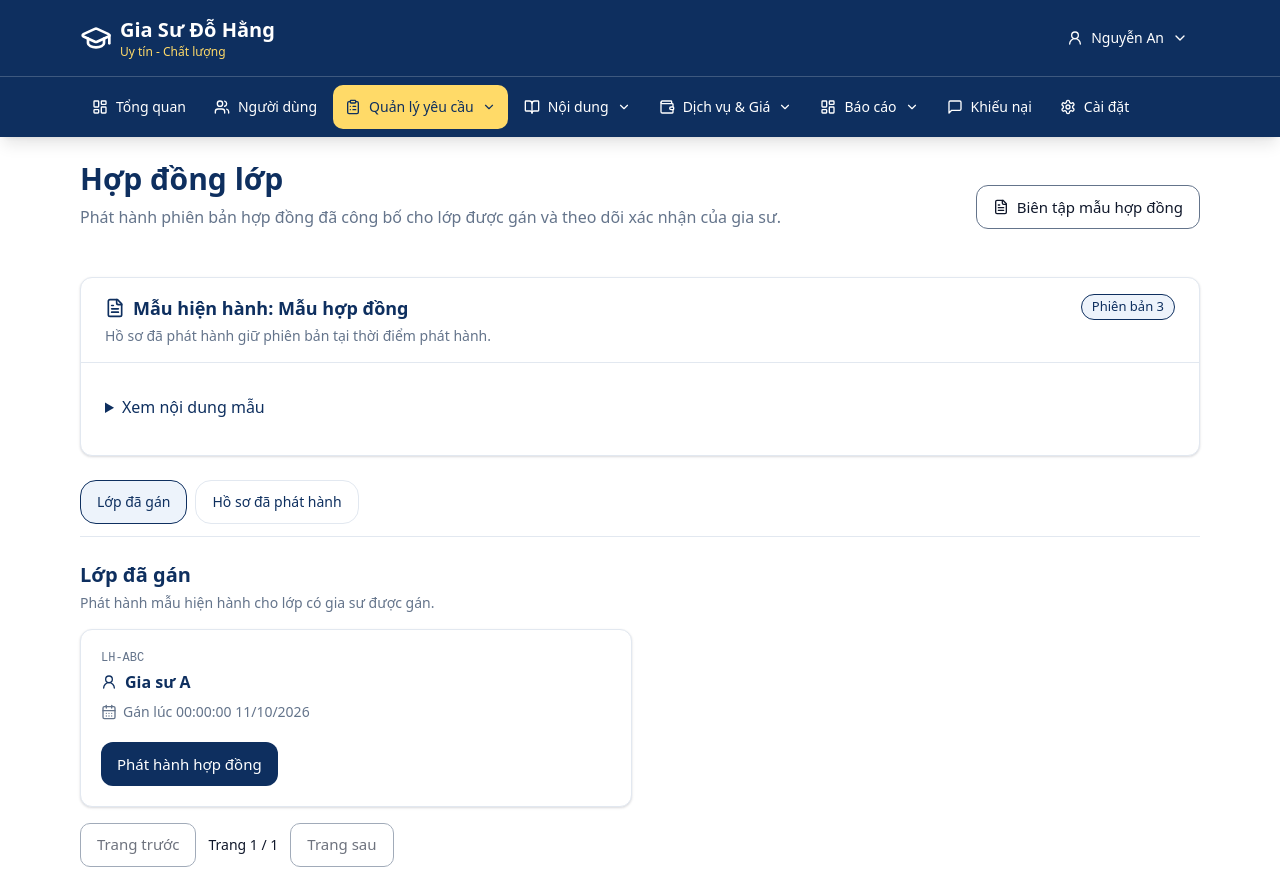
Test case: moderator terms and contracts › issues the current contract version only to an active assignment
Click the button "Phát hành hợp đồng" at (189, 764), box [101,742,278,786]
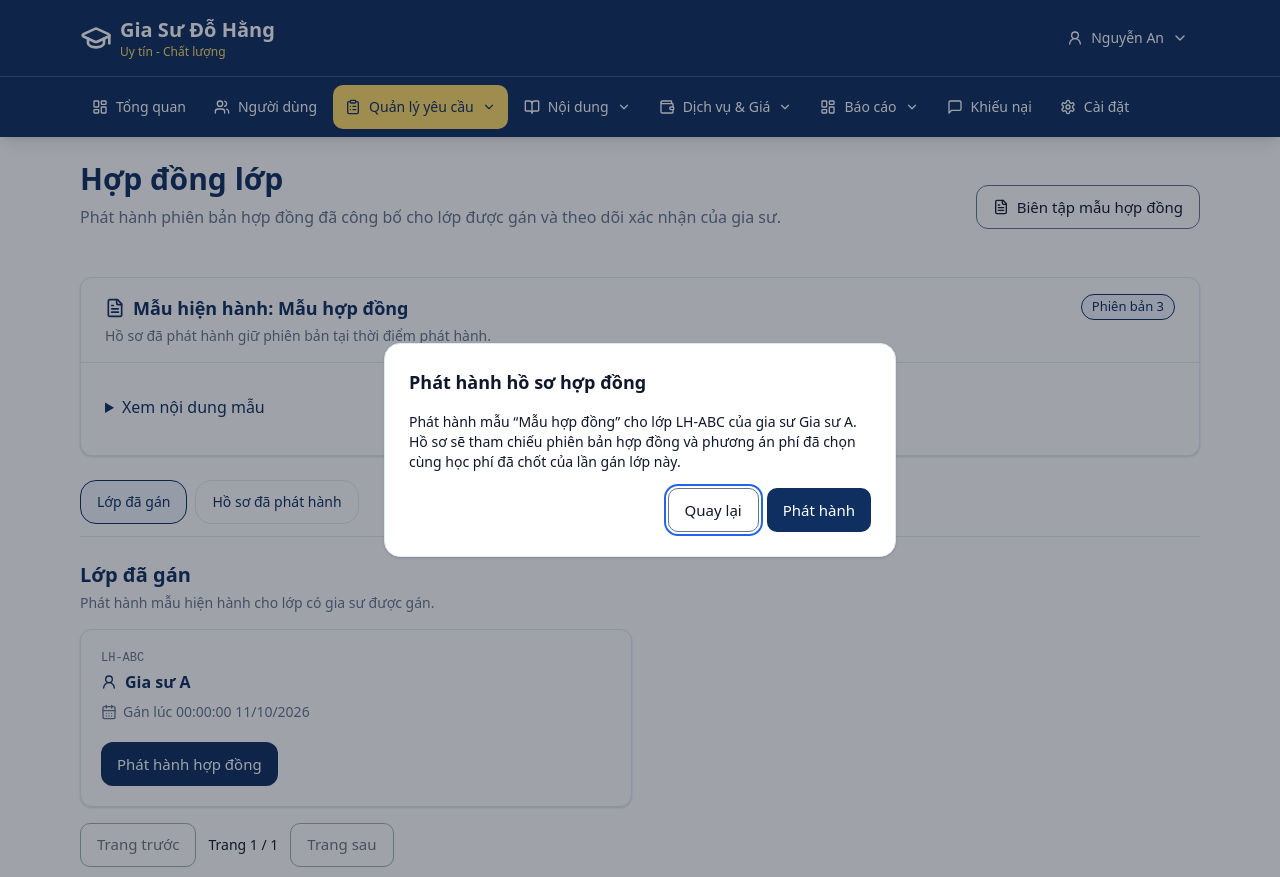
Click the button "Phát hành" at (819, 510), box [767,488,871,532]
(page scrolled)
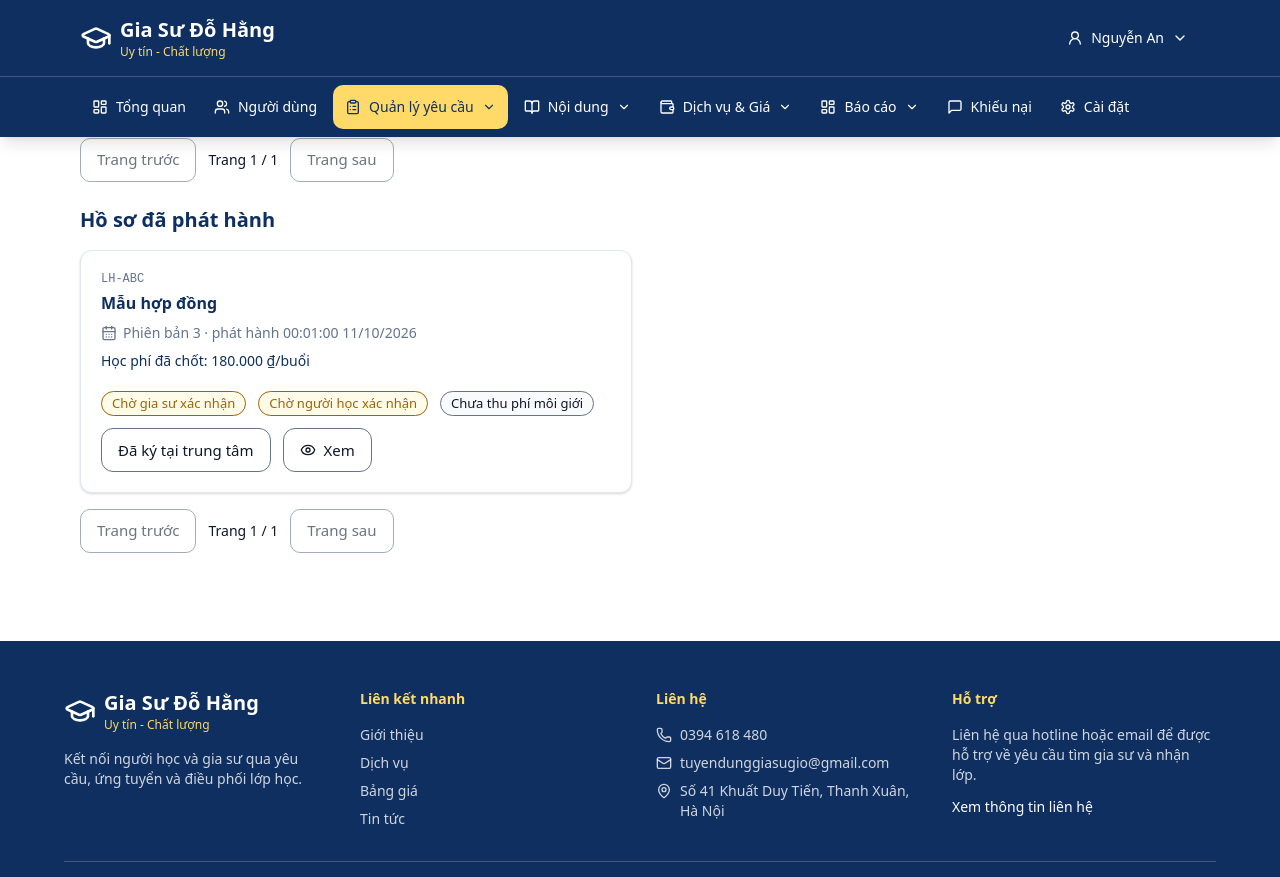
Click the button "Xem" at (327, 450), box [283,428,372,472]
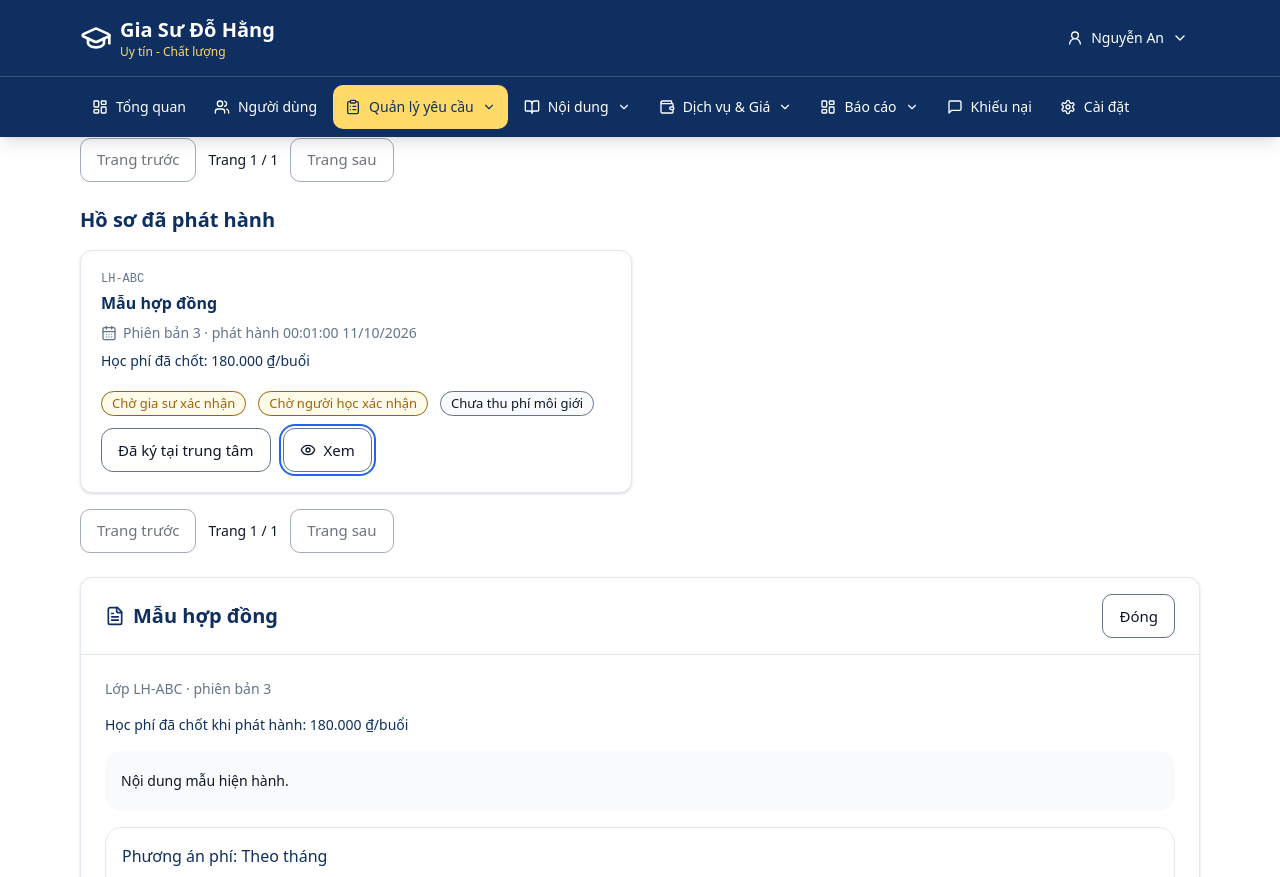
Result: the text "Học phí đã chốt khi phát hành: 180.000 ₫/buổi" is shown at [105,715,408,734]
